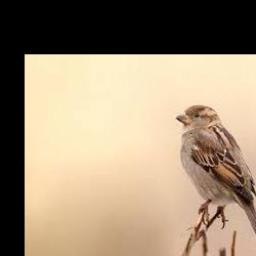Sparrow: (175, 106, 256, 247)
